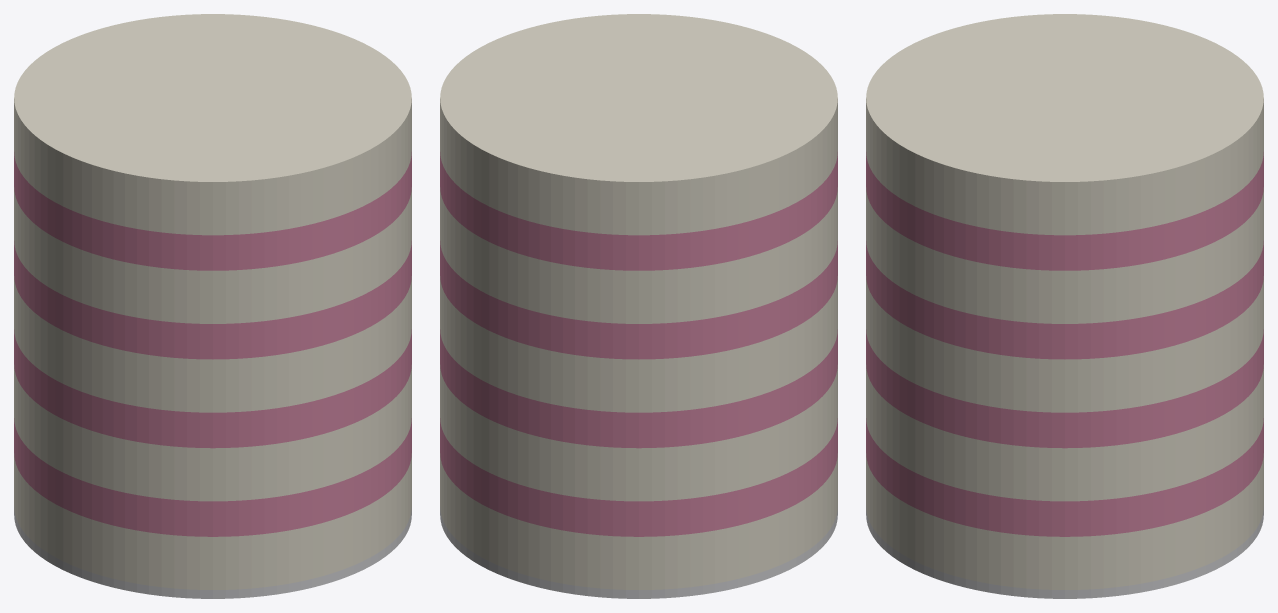
The model's file is cake_8in_layers5.glb.
The picture shows the model from 3 angles, left to right: view 1: azimuth 30°, elevation 25°; view 2: azimuth 150°, elevation 25°; view 3: azimuth 270°, elevation 25°; orthographic projection.
Visible parts, largest first — view 1: geometry_8, geometry_6, geometry_2, geometry_0, geometry_4, geometry_3, geometry_5, geometry_1, geometry_7, geometry_9; view 2: geometry_8, geometry_6, geometry_2, geometry_0, geometry_4, geometry_3, geometry_5, geometry_1, geometry_7, geometry_9; view 3: geometry_8, geometry_6, geometry_2, geometry_0, geometry_4, geometry_3, geometry_5, geometry_1, geometry_7, geometry_9.
Boxes of the visible parts, x1=… form: geometry_8: x1=14, y1=14, x2=411, y2=235; geometry_6: x1=14, y1=187, x2=411, y2=323; geometry_2: x1=14, y1=365, x2=411, y2=501; geometry_0: x1=14, y1=453, x2=411, y2=589; geometry_4: x1=14, y1=276, x2=411, y2=412; geometry_3: x1=14, y1=329, x2=411, y2=448; geometry_5: x1=14, y1=241, x2=411, y2=359; geometry_1: x1=14, y1=418, x2=411, y2=536; geometry_7: x1=14, y1=152, x2=411, y2=270; geometry_9: x1=14, y1=507, x2=411, y2=598; geometry_8: x1=440, y1=14, x2=837, y2=235; geometry_6: x1=440, y1=187, x2=837, y2=323; geometry_2: x1=440, y1=365, x2=837, y2=501; geometry_0: x1=440, y1=453, x2=837, y2=589; geometry_4: x1=440, y1=276, x2=837, y2=412; geometry_3: x1=440, y1=329, x2=837, y2=448; geometry_5: x1=440, y1=241, x2=837, y2=359; geometry_1: x1=440, y1=418, x2=837, y2=536; geometry_7: x1=440, y1=152, x2=837, y2=270; geometry_9: x1=440, y1=507, x2=837, y2=598; geometry_8: x1=866, y1=14, x2=1263, y2=235; geometry_6: x1=866, y1=187, x2=1263, y2=323; geometry_2: x1=866, y1=365, x2=1263, y2=501; geometry_0: x1=866, y1=453, x2=1263, y2=589; geometry_4: x1=866, y1=276, x2=1263, y2=412; geometry_3: x1=866, y1=329, x2=1263, y2=448; geometry_5: x1=866, y1=241, x2=1263, y2=359; geometry_1: x1=866, y1=418, x2=1263, y2=536; geometry_7: x1=866, y1=152, x2=1263, y2=270; geometry_9: x1=866, y1=507, x2=1263, y2=598.
Bounding box in the file's own units: 0.2032 × 0.235 × 0.2032.
